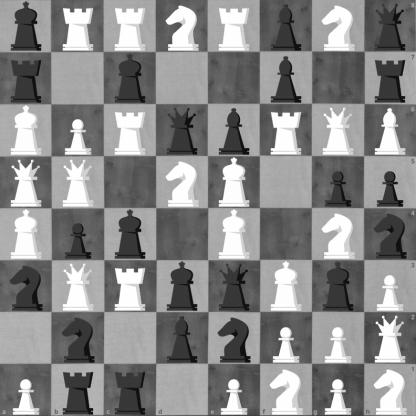B: (364, 104, 416, 156)
K: (1, 105, 52, 156), (1, 209, 52, 260), (209, 157, 260, 208), (209, 209, 260, 260), (261, 261, 312, 312)
N: (260, 364, 312, 416), (364, 364, 416, 416), (157, 1, 208, 52), (157, 157, 208, 208), (313, 1, 364, 52), (313, 209, 364, 260)
P: (0, 364, 52, 416), (312, 364, 364, 416), (364, 260, 416, 312), (209, 364, 260, 416), (53, 105, 104, 156), (261, 313, 312, 364), (313, 313, 364, 364)
Q: (364, 312, 416, 364), (1, 157, 52, 208), (53, 157, 104, 208), (53, 261, 104, 312), (313, 105, 364, 156)
R: (53, 1, 104, 52), (105, 1, 156, 52), (105, 105, 156, 156), (105, 261, 156, 312), (209, 1, 260, 52), (261, 105, 312, 156)
b: (157, 313, 208, 364), (209, 105, 260, 156), (261, 1, 312, 52), (261, 53, 312, 104)
board: (0, 0, 415, 415)
k: (1, 1, 52, 52), (105, 53, 156, 104), (105, 209, 156, 260), (157, 261, 208, 312), (313, 261, 364, 312)
n: (364, 209, 416, 260), (1, 261, 52, 312), (53, 313, 104, 364), (209, 313, 260, 364)
p: (364, 156, 416, 209), (53, 209, 104, 260), (313, 157, 364, 208)
q: (364, 0, 416, 52), (157, 105, 208, 156), (209, 261, 260, 312)
r: (52, 364, 104, 416), (104, 364, 156, 416), (364, 52, 416, 104), (1, 53, 52, 104)
